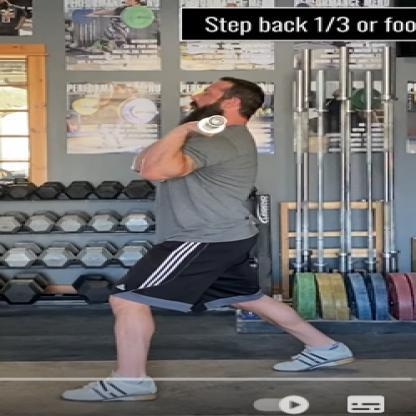Barbell: (207, 117, 230, 129)
